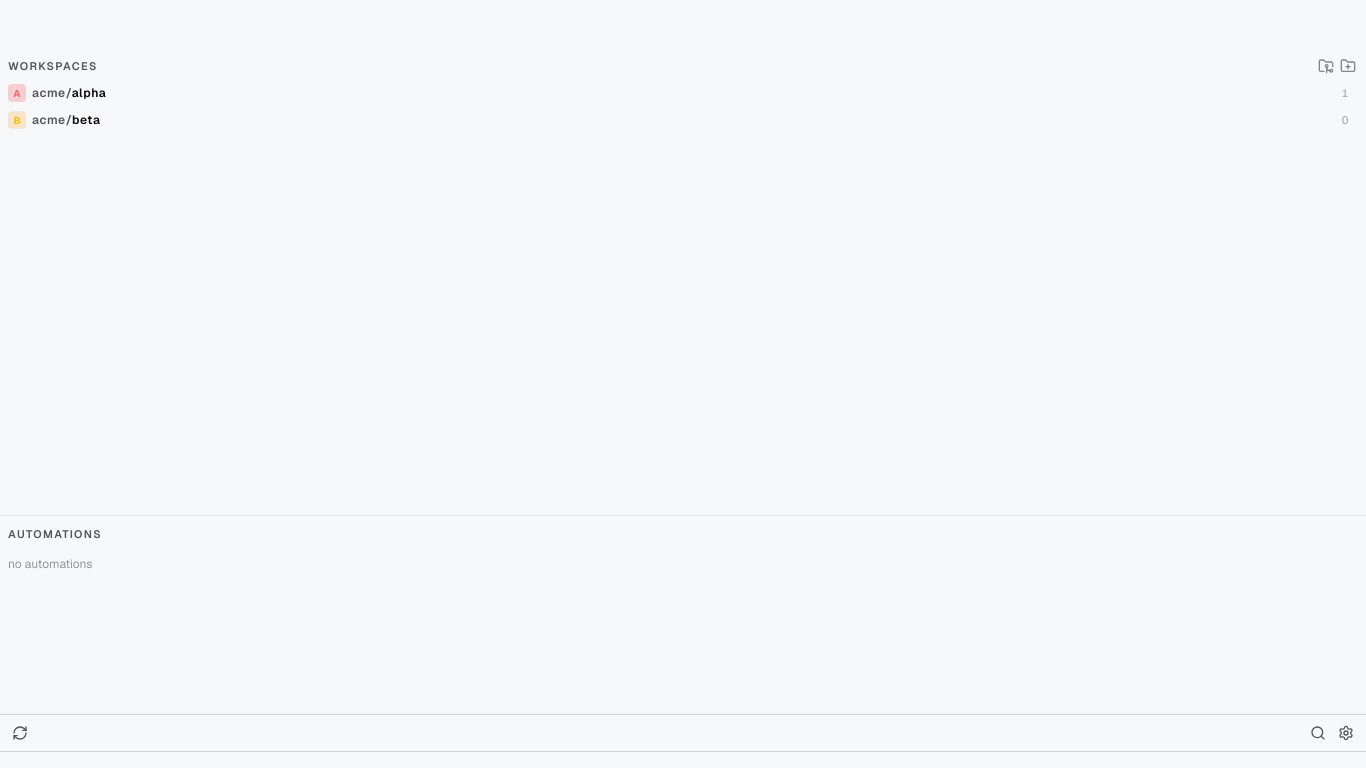
Test: Sidebar › renders projects and toggles workspace links from collapsible
Expected: the text "workspace/tokyo" is not shown
Click the element showing "acme/alpha" at (69, 93), box [32,85,106,101]
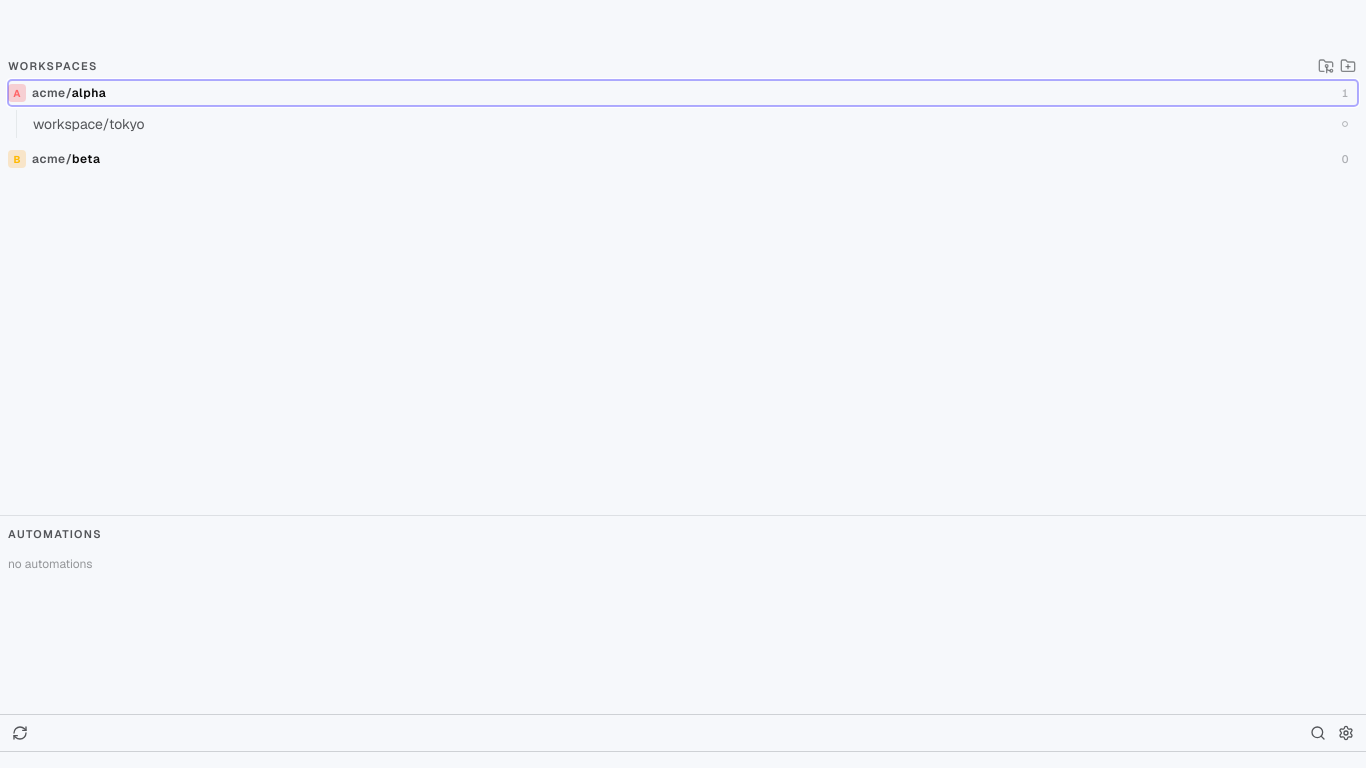
Expected: the text "workspace/tokyo" is shown, [33,115,145,133]
